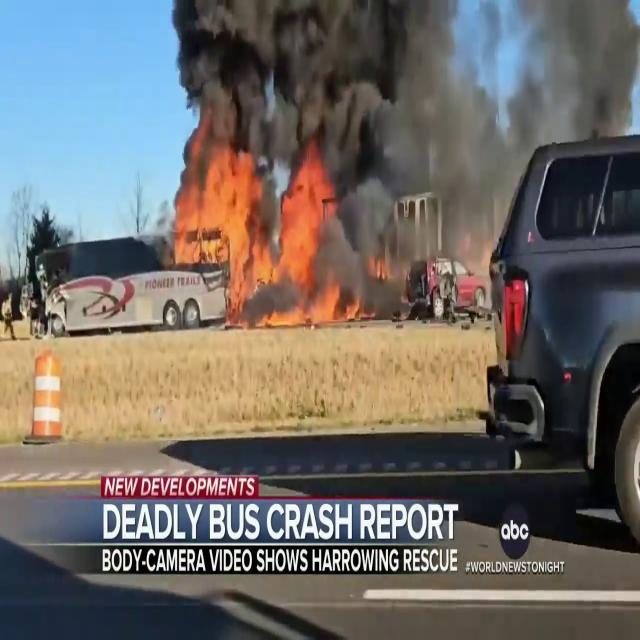Fire: (168, 136, 342, 318)
Smoke: (166, 1, 494, 208), (501, 0, 640, 159)
